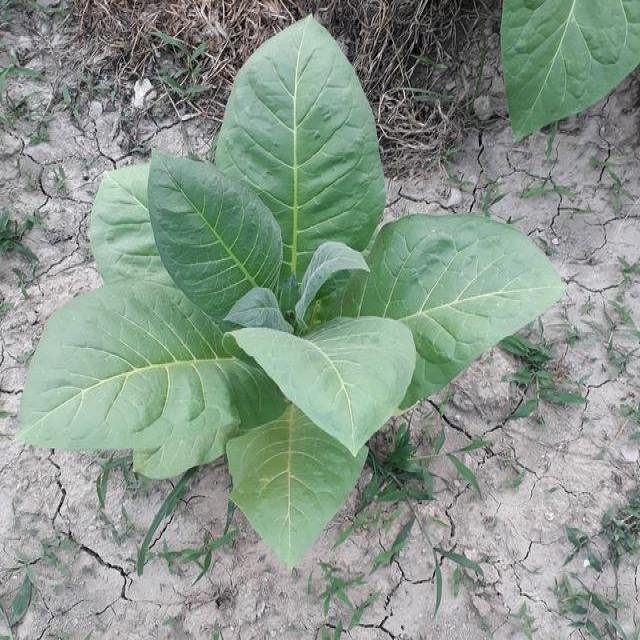crop: (12, 27, 572, 583), (502, 2, 640, 132)
